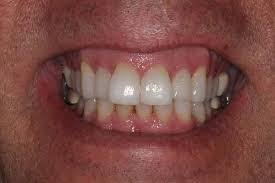decay: (220, 95, 230, 105)
normal: (142, 63, 173, 107), (112, 64, 139, 104), (171, 72, 190, 103), (191, 67, 206, 103), (94, 68, 111, 98), (174, 103, 193, 127), (227, 67, 239, 94), (70, 67, 82, 93), (218, 71, 229, 99), (194, 100, 206, 124), (206, 74, 215, 104), (61, 67, 72, 90), (201, 100, 213, 120), (85, 99, 96, 120), (210, 96, 221, 111)
yellow: (80, 62, 98, 101), (150, 96, 173, 125), (96, 97, 115, 120), (136, 99, 154, 122), (117, 102, 133, 120), (69, 89, 78, 109), (75, 96, 84, 115)
